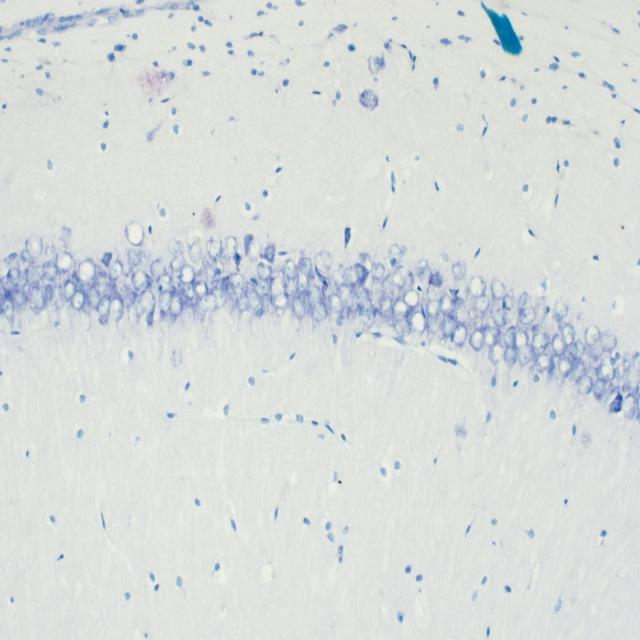neuron: (115, 274, 135, 308), (315, 249, 335, 281), (95, 272, 116, 302), (466, 275, 487, 302), (218, 275, 238, 303), (29, 285, 46, 316), (125, 220, 145, 246), (322, 277, 340, 304), (442, 309, 458, 339), (78, 258, 96, 284), (140, 288, 156, 317), (25, 234, 43, 259), (128, 291, 145, 317), (2, 295, 16, 325), (38, 272, 57, 294), (207, 234, 223, 260), (202, 254, 218, 279), (132, 269, 151, 290), (39, 272, 57, 294), (252, 276, 270, 298), (466, 308, 483, 331), (531, 332, 548, 355), (490, 276, 506, 300), (271, 292, 290, 312), (345, 261, 359, 288), (24, 264, 41, 286), (311, 300, 328, 322), (600, 330, 617, 352), (6, 266, 22, 289), (488, 340, 504, 363), (585, 324, 601, 347), (109, 296, 123, 322), (170, 287, 183, 315), (213, 283, 227, 309), (308, 283, 322, 309), (269, 276, 288, 295), (198, 294, 218, 312), (598, 364, 616, 384), (327, 293, 344, 314), (11, 287, 27, 309), (108, 260, 124, 282), (145, 306, 167, 322), (393, 265, 409, 287), (502, 288, 518, 310), (518, 344, 534, 366), (626, 365, 640, 390), (86, 286, 101, 309), (352, 262, 367, 285), (411, 311, 426, 334), (453, 323, 468, 346), (392, 298, 409, 318), (483, 326, 500, 346), (395, 316, 411, 337), (552, 333, 566, 357), (157, 272, 172, 294), (485, 316, 500, 338), (166, 237, 184, 255), (624, 394, 636, 421), (179, 264, 196, 283), (519, 305, 536, 324), (96, 294, 110, 317), (56, 252, 72, 272), (469, 330, 485, 350), (492, 308, 508, 328), (43, 260, 58, 281), (283, 259, 298, 280), (48, 303, 61, 327), (158, 290, 172, 312), (188, 241, 202, 263), (358, 252, 372, 274), (388, 243, 402, 265), (554, 300, 568, 322), (559, 356, 573, 378), (192, 268, 209, 286), (52, 284, 64, 309), (44, 244, 59, 264), (337, 283, 352, 303), (427, 286, 442, 306), (578, 374, 593, 394), (225, 236, 238, 259), (379, 295, 392, 318), (562, 323, 575, 346), (426, 298, 440, 319), (439, 294, 453, 315), (452, 259, 466, 280), (514, 329, 528, 350), (150, 259, 166, 277), (248, 289, 261, 311), (295, 273, 308, 295), (336, 304, 349, 326), (504, 346, 517, 368), (572, 360, 585, 382), (593, 378, 606, 400), (404, 289, 419, 308), (475, 294, 490, 313), (535, 352, 550, 371), (194, 280, 208, 300), (292, 298, 306, 318), (533, 304, 547, 324), (571, 340, 585, 360), (21, 276, 32, 301), (63, 280, 76, 301), (71, 290, 84, 311), (5, 253, 21, 270), (126, 248, 142, 265), (370, 262, 385, 280), (428, 269, 443, 287), (164, 306, 178, 325), (298, 257, 312, 276), (347, 290, 359, 312), (373, 306, 385, 328), (416, 258, 428, 280), (504, 325, 516, 347), (257, 263, 272, 280), (171, 254, 185, 272), (230, 272, 244, 290), (236, 294, 250, 312), (183, 280, 196, 299), (331, 269, 344, 288), (358, 301, 374, 316), (356, 288, 369, 306), (519, 292, 532, 310), (544, 341, 554, 364), (20, 248, 34, 264), (178, 287, 189, 307), (587, 366, 598, 386), (265, 244, 276, 264), (380, 273, 392, 291), (615, 361, 625, 381), (44, 284, 54, 302), (362, 312, 374, 327), (262, 293, 270, 314), (624, 352, 632, 371), (632, 352, 640, 371)
